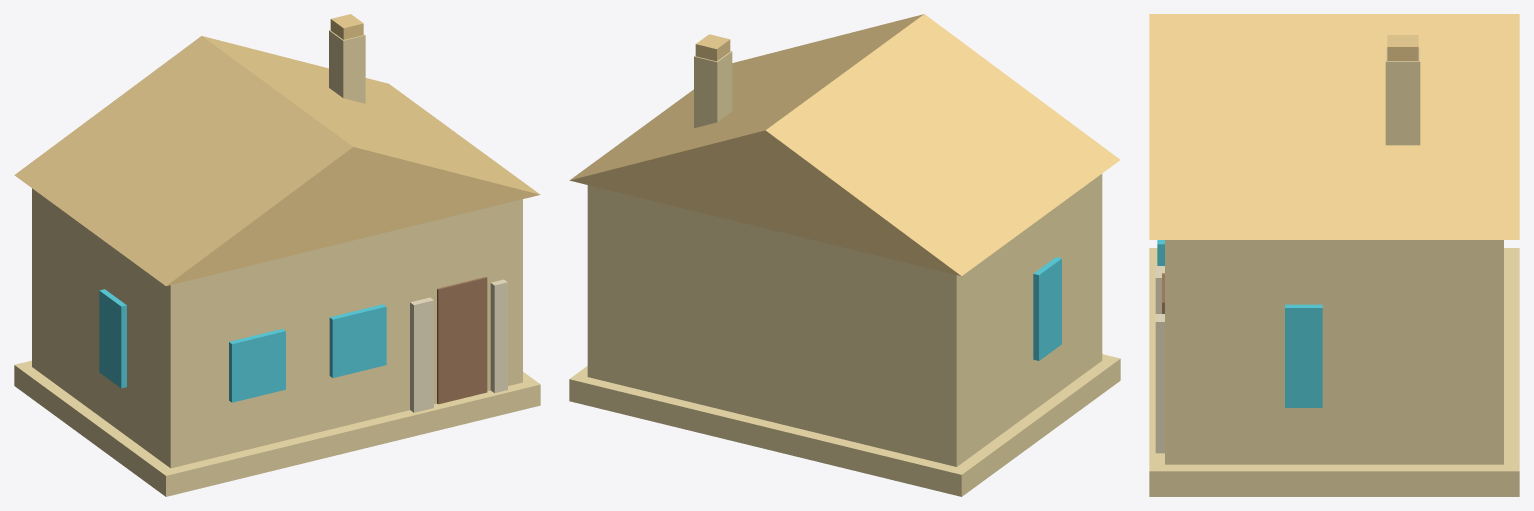
File: House05.fbx
The picture shows the model from 3 angles, left to right: view 1: azimuth 30°, elevation 25°; view 2: azimuth 150°, elevation 25°; view 3: azimuth 270°, elevation 25°; orthographic projection. The views are drawn at different scales.
Visible parts, largest first — view 1: House05; view 2: House05; view 3: House05.
Boxes of the visible parts, <box> form: House05: <box>14,14,540,496</box>; House05: <box>569,14,1120,496</box>; House05: <box>1149,14,1519,496</box>.
Bounding box in the file's own units: 760 × 639 × 533.
